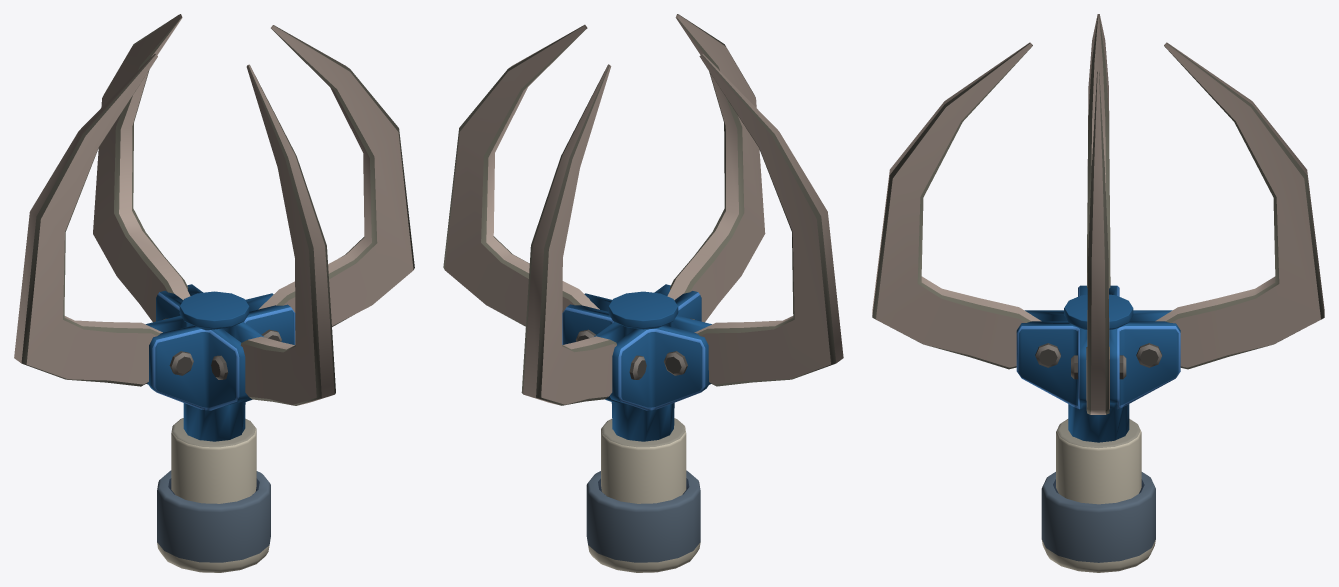
The model's file is Hook.fbx.
3 views of the same model, side by side, from view 1: azimuth 30°, elevation 25°; view 2: azimuth 150°, elevation 25°; view 3: azimuth 270°, elevation 25° (orthographic).
Parts seen in each view (by area): view 1: Hook; view 2: Hook; view 3: Hook.
Boxes of the visible parts, <box> form: Hook: <box>14,14,414,572</box>; Hook: <box>443,14,843,572</box>; Hook: <box>872,14,1324,572</box>.
Bounding box in the file's own units: 1.04 × 1.29 × 1.04.
Materials: 2 (2 with a texture image).
